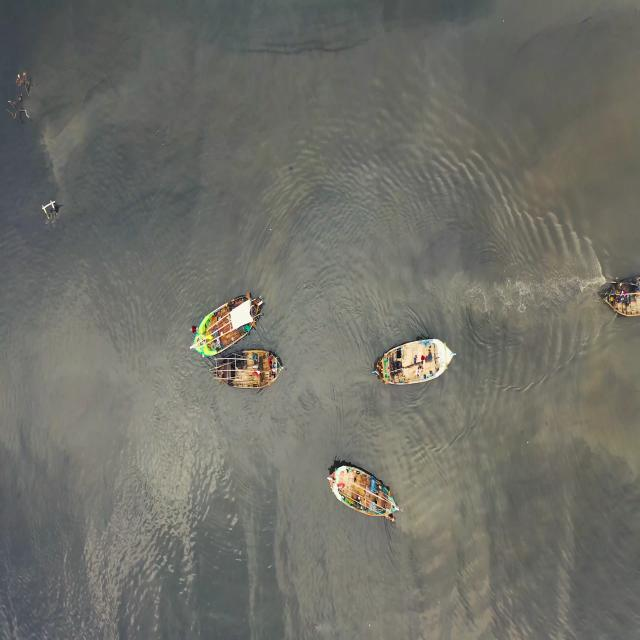ship: (183, 292, 266, 362), (370, 339, 460, 388), (329, 465, 403, 523), (212, 349, 296, 395), (597, 261, 638, 324)
